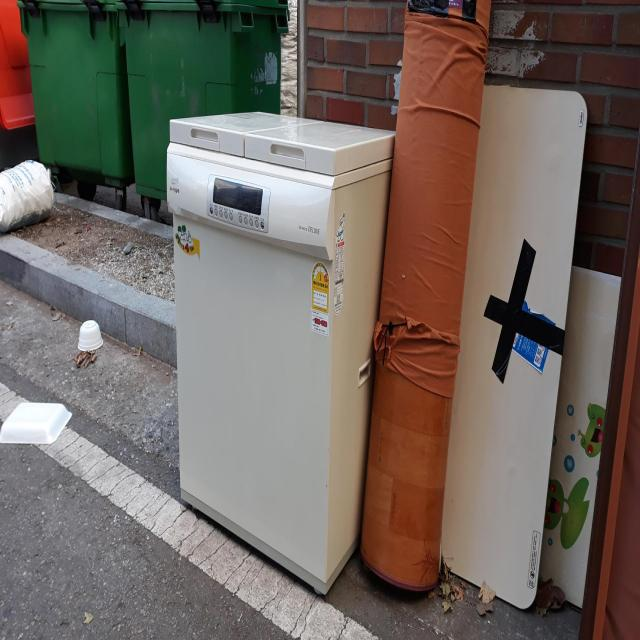refrigerator: (166, 110, 397, 594)
